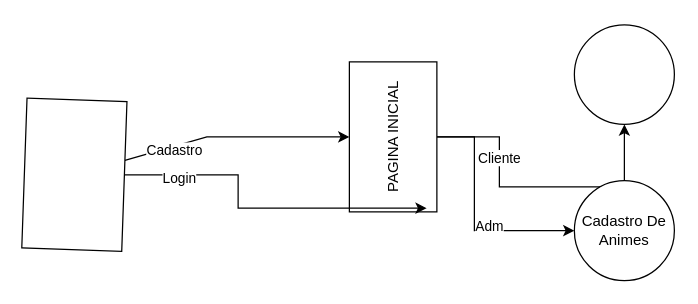
Some shapes in this 698 by 304 pixel diagram are drawn without their labels. The box of each missing label's shape, as (x1, y1, x2, y2) in pixels:
1-olhar os animes e assistir os animes: (573, 24, 674, 124)
CASA: (20, 97, 127, 252)
